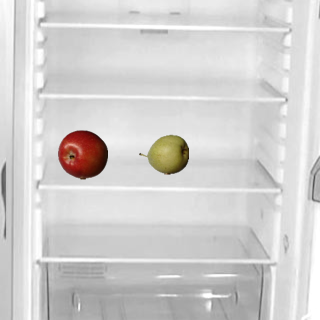Apple Braeburn: (57, 129, 107, 179)
Pear: (138, 129, 188, 179)
